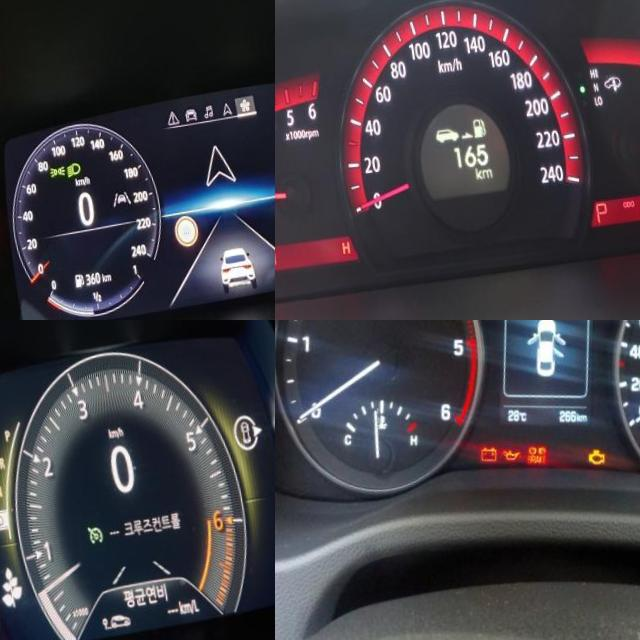Low beam: (56, 167, 72, 184)
SideLamp: (39, 169, 56, 183)
